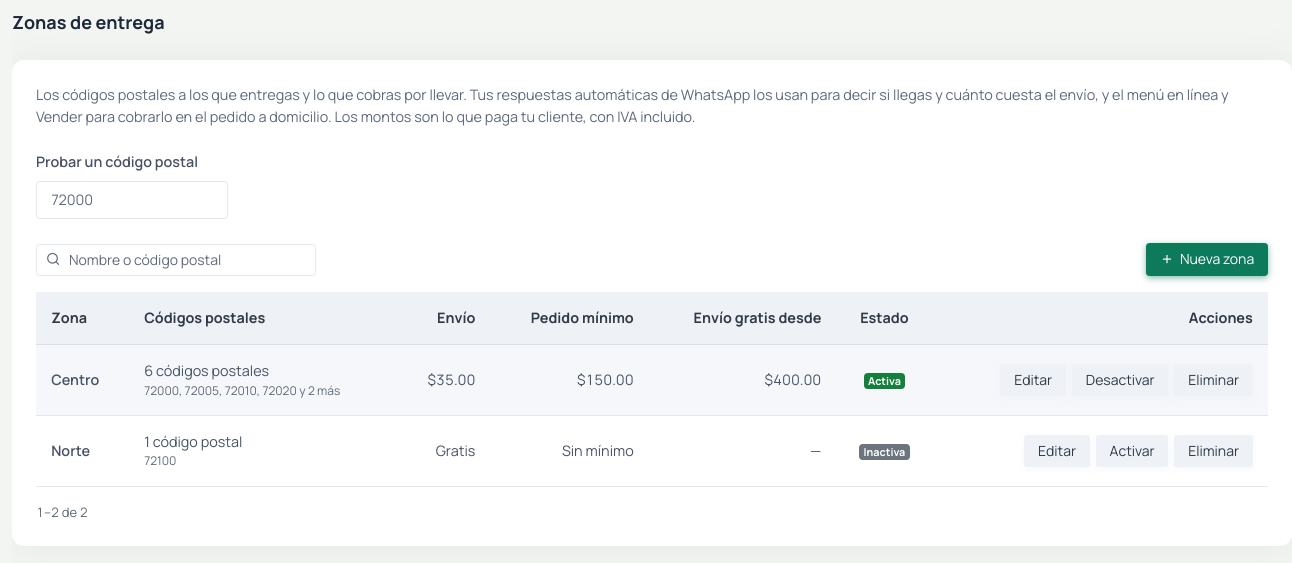
DeliveryZones › keeps the actions of every zone off while a change is being saved
Click the button with aria-label "Activar Norte" at (1132, 451), box top-left (1096, 435), bottom-right (1168, 467)
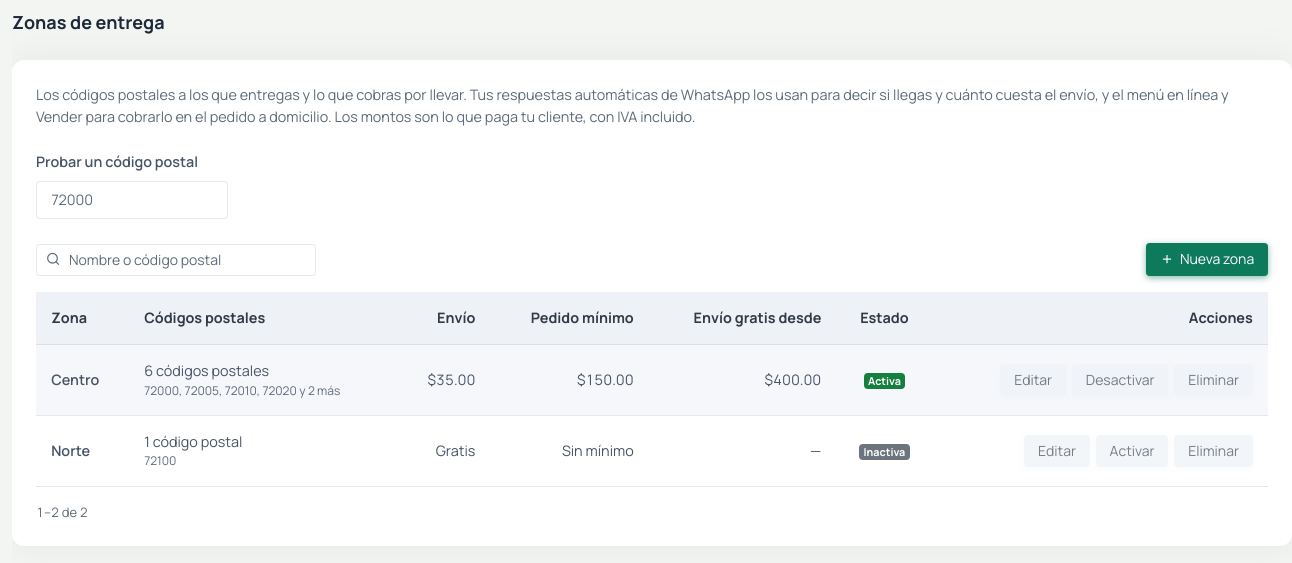
expect the button with aria-label "Activar Norte" is disabled: met, box top-left (1096, 435), bottom-right (1168, 467)
expect the button with aria-label "Editar Centro" is disabled: met, box top-left (1000, 364), bottom-right (1066, 396)
expect the button with aria-label "Eliminar Centro" is disabled: met, box top-left (1174, 364), bottom-right (1253, 396)
